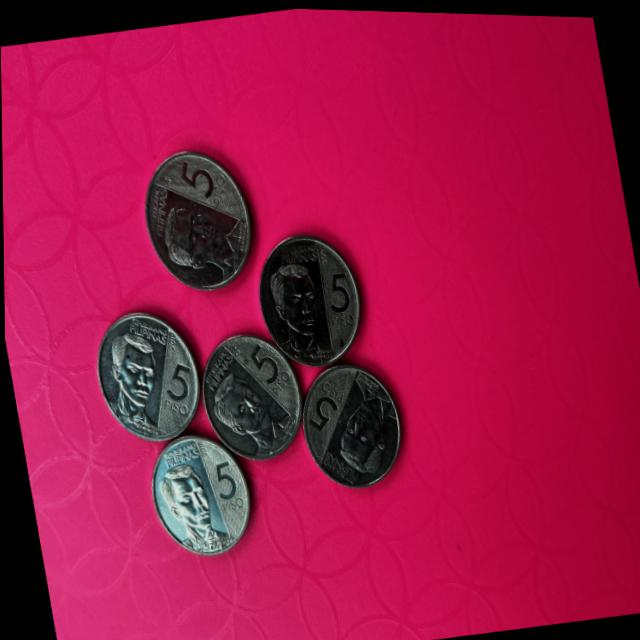5_New_Front: (298, 368, 353, 444), (167, 148, 229, 213), (314, 260, 362, 336), (149, 360, 199, 424), (246, 335, 294, 399), (208, 454, 247, 527)
